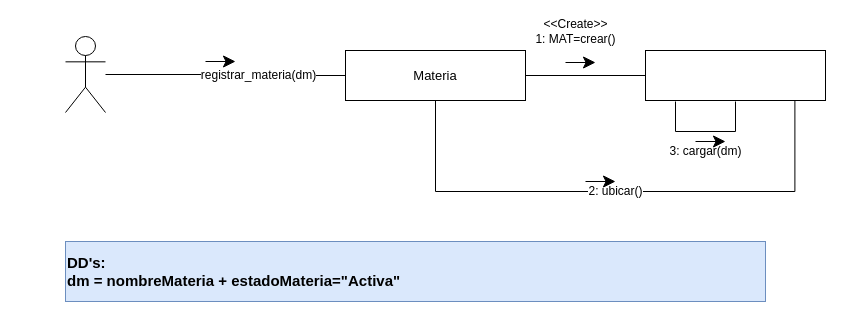
This 843x319 diagram has some shape labels left out. The shapes that lost their labels are listed below. From the top down, each one's centre as x and y in pixels, then its label:
At [85,74]: "Coordinador de Carrera".
At [735,75]: "MAT : Materia".
